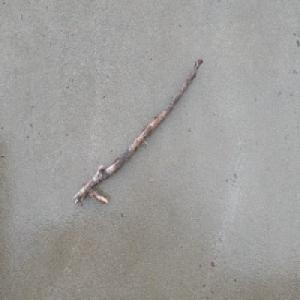Wood: (71, 56, 204, 207)
